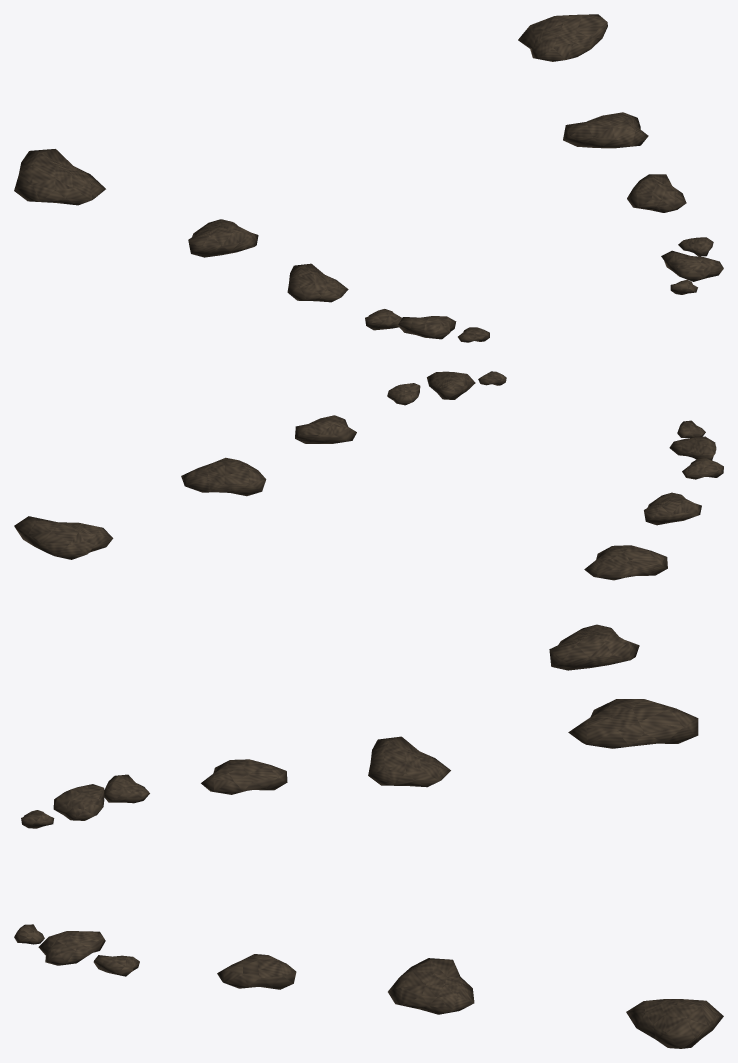
Rendered from SM_ShoreRocks.glb.
3 views of the same model, one above another, from view 1: azimuth 30°, elevation 25°; view 2: azimuth 150°, elevation 25°; view 3: azimuth 270°, elevation 25° (orthographic). The views are drawn at different scales.
Parts seen in each view (by area): view 1: SM_ShoreRocks; view 2: SM_ShoreRocks; view 3: SM_ShoreRocks.
Part boxes in pixels (x1,y1,x2,y2): SM_ShoreRocks: (14,14,723,342); SM_ShoreRocks: (14,371,723,670); SM_ShoreRocks: (14,699,723,1048).
Size of the model in its own units: 5.54 by 0.2029 by 4.83.
Materials: 1 (1 with a texture image).
